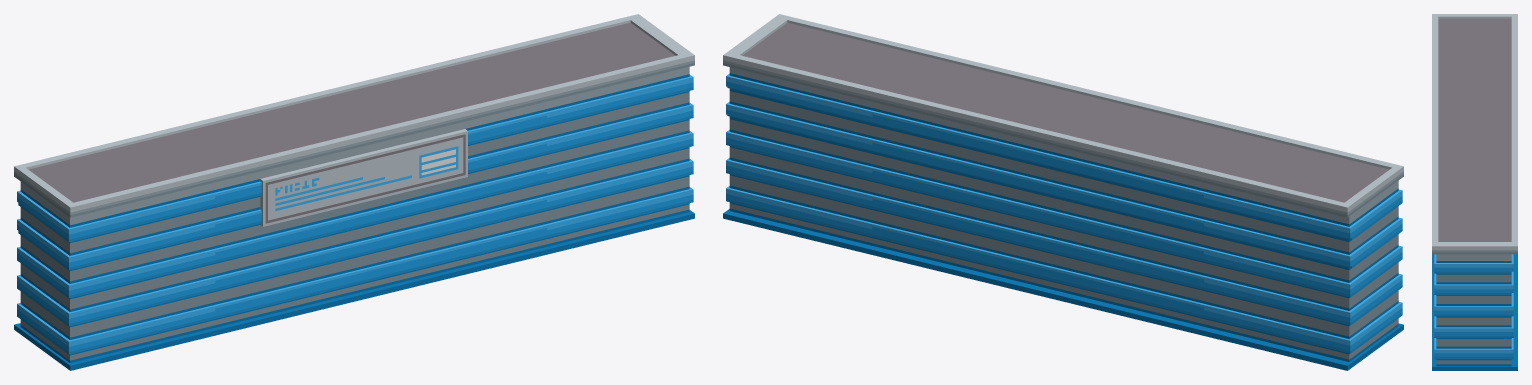
File: Artefactpedestal-0-подставка для артефакта.obj
3 renders of one model, left to right at view 1: azimuth 30°, elevation 25°; view 2: azimuth 150°, elevation 25°; view 3: azimuth 270°, elevation 25°, orthographic. The views are drawn at different scales.
Parts seen in each view (by area): view 1: подставка для артефакта; view 2: подставка для артефакта; view 3: подставка для артефакта.
Part boxes in pixels (x1,y1,x2,y2): подставка для артефакта: (14,14,694,370); подставка для артефакта: (723,14,1403,370); подставка для артефакта: (1432,14,1517,370).
Bounding box in the file's own units: 25.6 × 6.4 × 4.
Materials: 1 (1 with a texture image).
